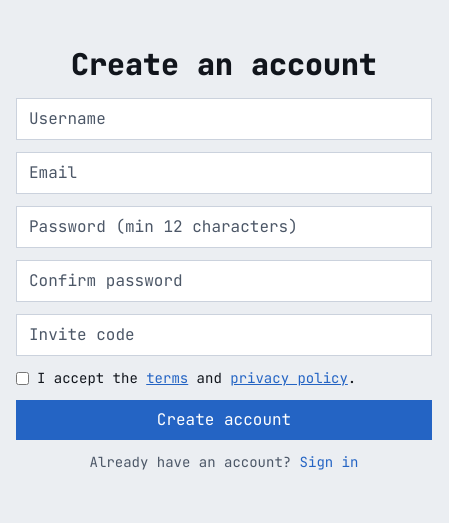
Test: RegisterPage › mismatched passwords show error and do not submit
In the field with placeholder "Username": (224, 119) [16,98,432,140], type "newuser"
In the field with placeholder "Email": (224, 173) [16,152,432,194], type "new@example.com"
In the password field with placeholder "Password (min 12 characters)": (224, 227) [16,206,432,248], type "longpassword12"
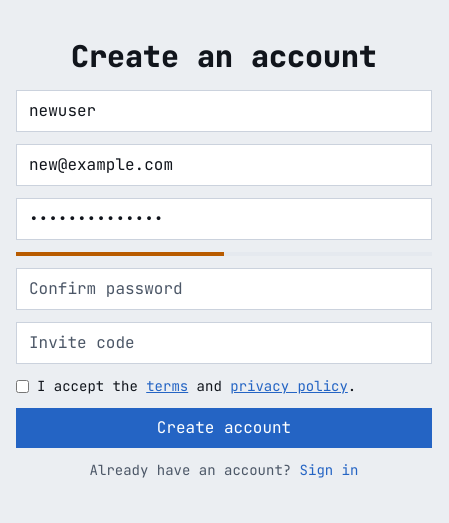
In the password field with placeholder "Confirm password": (224, 289) [16,268,432,310], type "longpassword12"
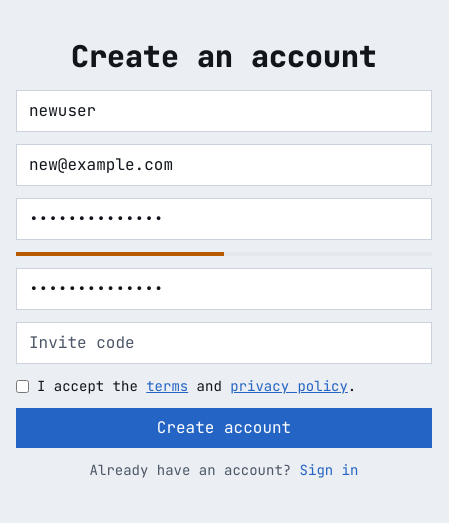
In the field with placeholder "Invite code": (224, 343) [16,322,432,364], type "abc123"
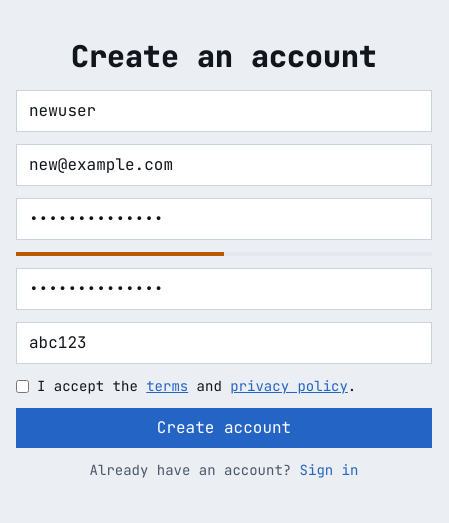
Click the checkbox: (22, 386) [16,380,29,393]
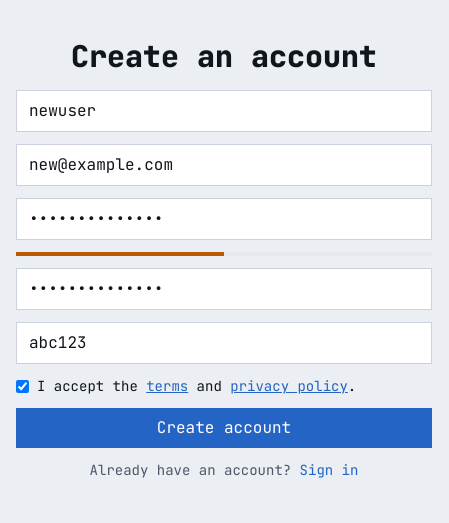
In the 2nd password field with placeholder "Confirm password": (224, 289) [16,268,432,310], type "different-12"
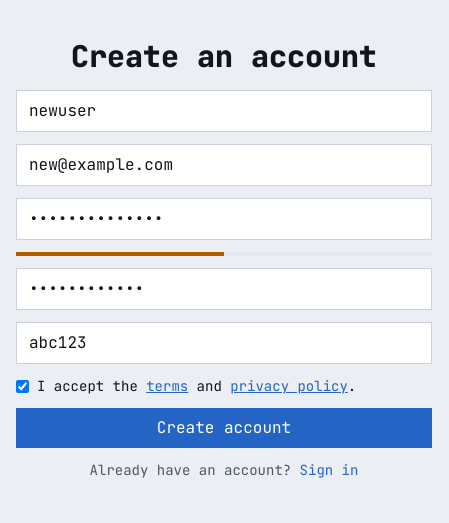
Click the button "Create account": (224, 428) [16,408,432,448]
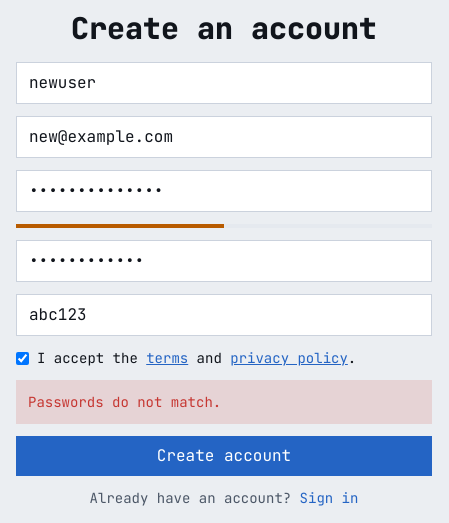
Now the text "Passwords do not match." is shown, box [16,380,432,424]
